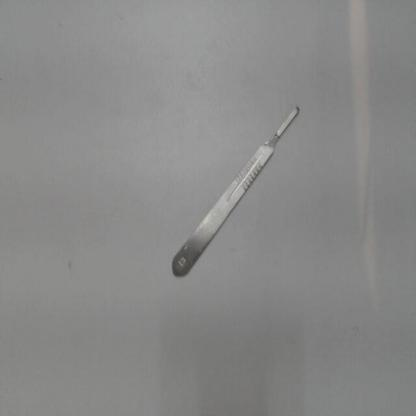No.4 BP Handle: (158, 91, 306, 290)
